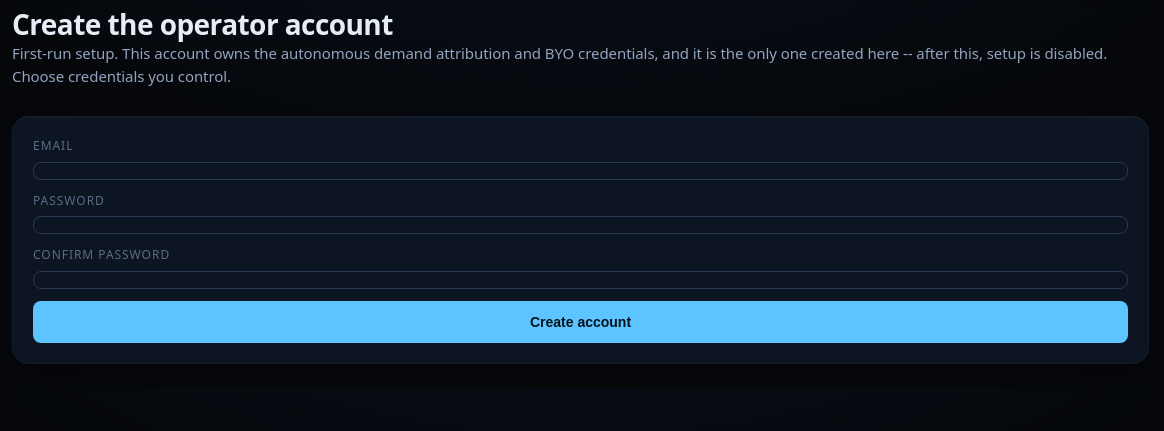
Test case: rendered authentication workflows › surfaces Setup validation before native minlength can suppress submit
Type "operator@example.com" into the field labelled "Email".
click(580, 171); type("operator@example.com")  # box [33,162,1128,180]
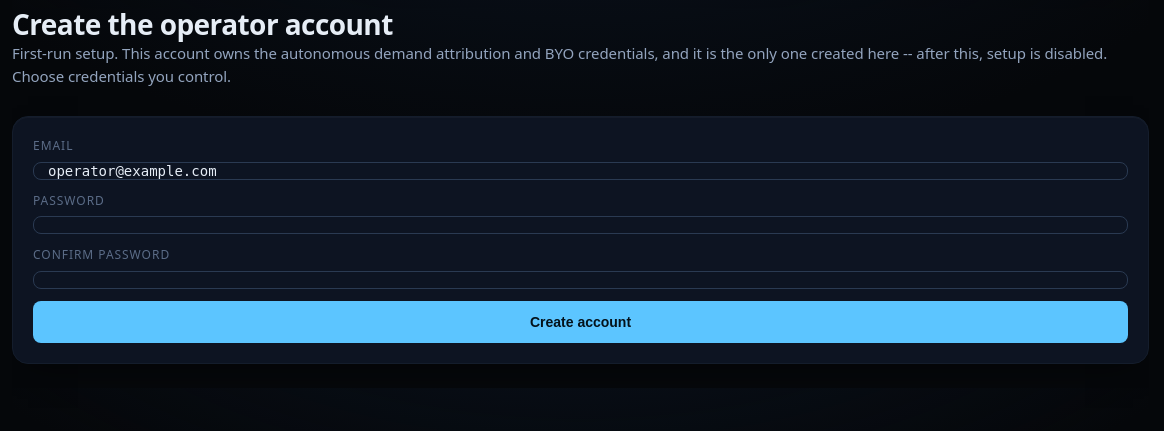
Type "short" into the password field labelled "Password".
click(580, 225); type("short")  # box [33,216,1128,234]
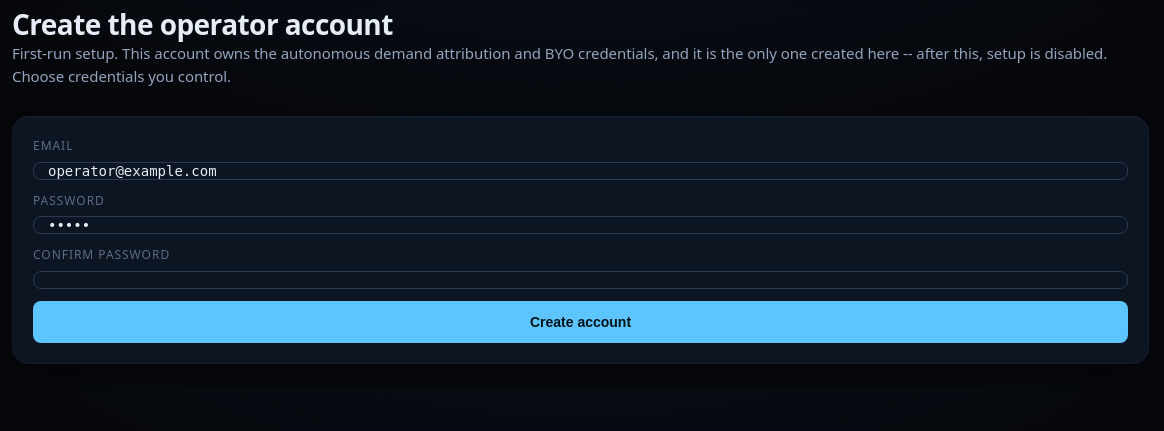
Type "different" into the password field labelled "Confirm password".
click(580, 280); type("different")  # box [33,271,1128,289]
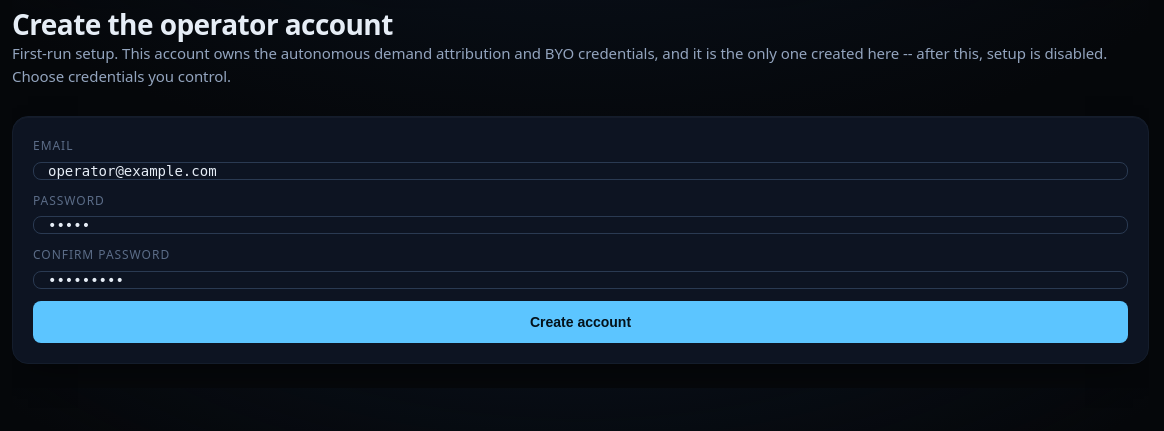
Click the button "Create account".
click(580, 322)  # box [33,301,1128,343]
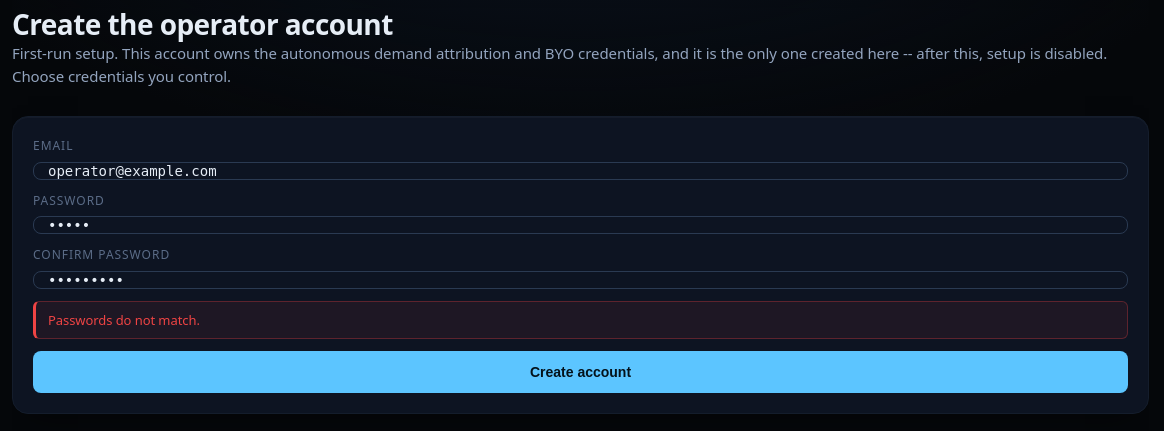
Expected: the text "Passwords do not match." is shown, [33,301,1128,339]
